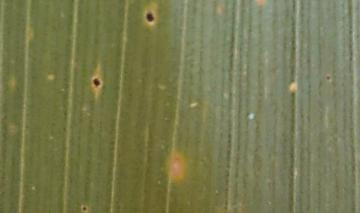tarspot: (145, 9, 155, 23), (91, 76, 101, 87), (81, 204, 89, 213), (325, 73, 332, 82)
